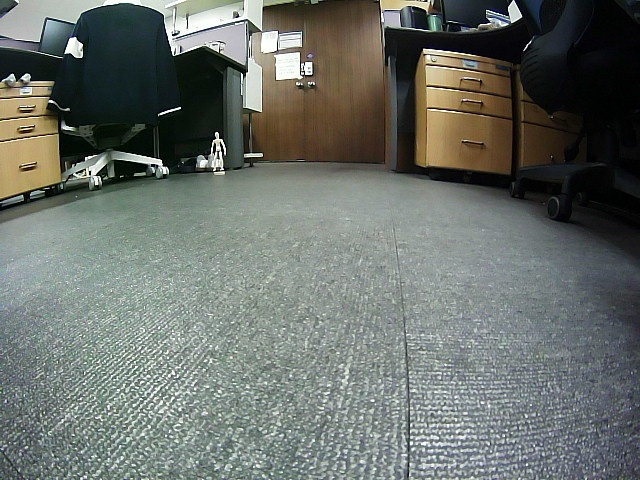person: (210, 132, 226, 171)
